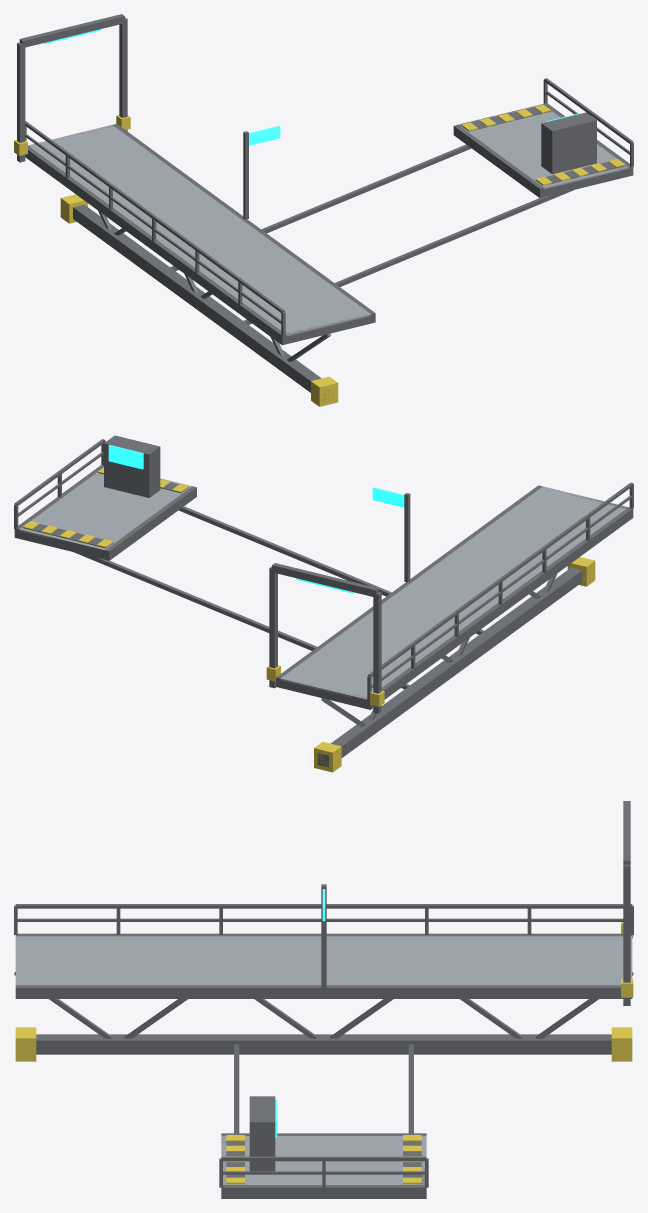
The model's file is scaffold_splitter_hub_g20.glb.
The picture shows the model from 3 angles, top to bottom: view 1: azimuth 30°, elevation 25°; view 2: azimuth 150°, elevation 25°; view 3: azimuth 270°, elevation 25°; orthographic projection. The views are drawn at different scales.
Visible parts, largest first — view 1: Deck_a, Spine, Deck_station, Frame_a_-1, Console, Hanger_station_1, Rail_a_-1, Hanger_station_0, Frame_a_1, Frame_station_-1, PortalLintel, MidRail_a_-1 (+5 smaller); view 2: Deck_a, Spine, Deck_station, Frame_a_-1, Console, Hanger_station_0, Rail_a_-1, Hanger_station_1, Frame_a_1, Frame_station_-1, PortalLintel, MidRail_a_-1 (+9 smaller); view 3: Deck_a, Spine, Frame_a_1, Deck_station, Rail_a_-1, Frame_station_1, Frame_a_-1, MidRail_a_-1, Console, Rail_station_1, PortalPost_1, MidRail_station_1 (+3 smaller).
Boxes of the visible parts, x1,y1,x2,y2 form: Deck_a: [28, 125, 370, 336]; Spine: [73, 204, 333, 401]; Deck_station: [459, 104, 628, 189]; Frame_a_-1: [25, 146, 286, 345]; Console: [541, 112, 596, 174]; Hanger_station_1: [243, 189, 574, 324]; Rail_a_-1: [25, 121, 284, 312]; Hanger_station_0: [170, 144, 471, 271]; Frame_a_1: [112, 124, 375, 323]; Frame_station_-1: [453, 125, 543, 196]; PortalLintel: [19, 14, 124, 47]; MidRail_a_-1: [25, 134, 281, 323]; Deck_a: [280, 486, 627, 700]; Spine: [317, 567, 582, 767]; Deck_station: [19, 472, 191, 549]; Frame_a_-1: [366, 507, 631, 709]; Console: [104, 435, 160, 497]; Hanger_station_0: [74, 552, 409, 689]; Rail_a_-1: [368, 482, 633, 677]; Hanger_station_1: [178, 506, 484, 634]; Frame_a_1: [276, 485, 542, 687]; Frame_station_-1: [105, 486, 196, 559]; PortalLintel: [272, 563, 378, 597]; MidRail_a_-1: [371, 495, 631, 687]; Deck_a: [15, 936, 632, 985]; Spine: [36, 1034, 611, 1054]; Frame_a_1: [15, 985, 623, 998]; Deck_station: [221, 1136, 426, 1184]; Rail_a_-1: [15, 904, 632, 908]; Frame_station_1: [221, 1185, 426, 1198]; Frame_a_-1: [15, 933, 632, 936]; MidRail_a_-1: [17, 918, 623, 921]; Console: [249, 1096, 275, 1171]; Rail_station_1: [221, 1156, 426, 1161]; PortalPost_1: [623, 864, 630, 1005]; MidRail_station_1: [223, 1171, 424, 1174].
Size of the model in its own units: 11.95 by 4.84 by 12.07.
